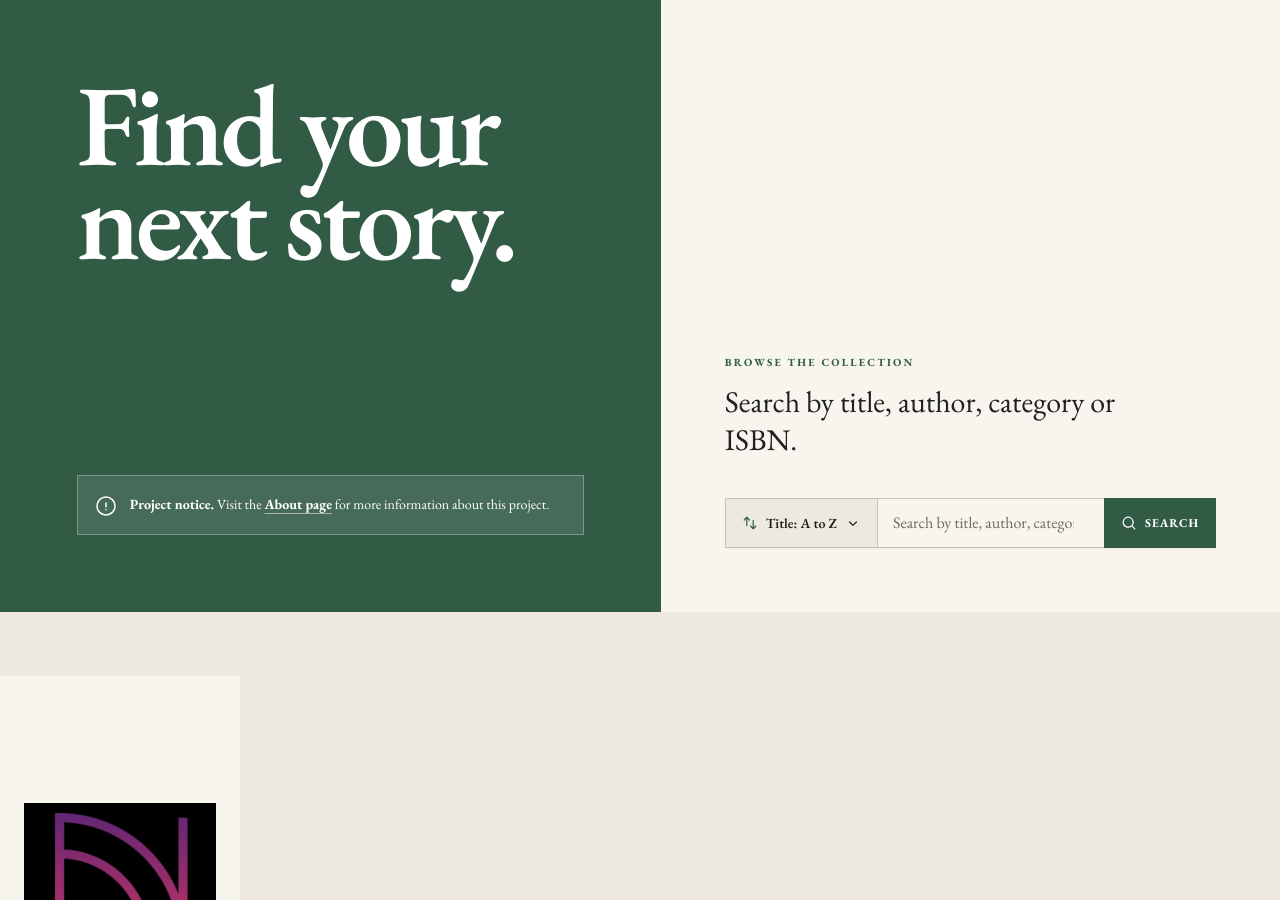
it: CatalogPage infinite loading › reloads the first page when a sort option is selected
This screenshot has width=1280, height=900.
Click the button "Title: A to Z" at (801, 523), box [725, 498, 878, 548]
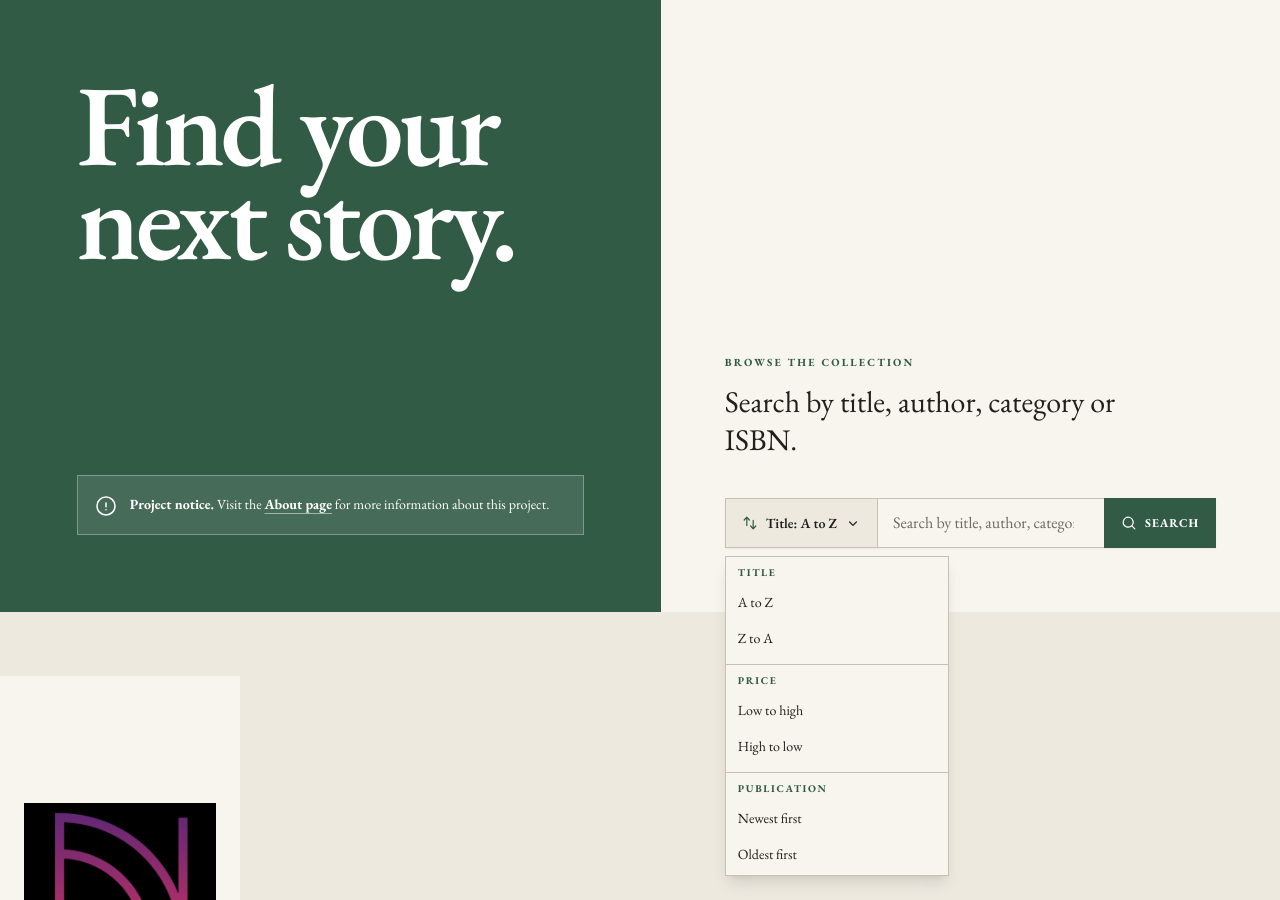
Now the element "Title" is shown, box [726, 557, 948, 665]
Now the element "Price" is shown, box [726, 665, 948, 773]
Now the element "Publication" is shown, box [726, 773, 948, 876]
Click the menu item "High to low" at (837, 746), box [726, 728, 948, 764]
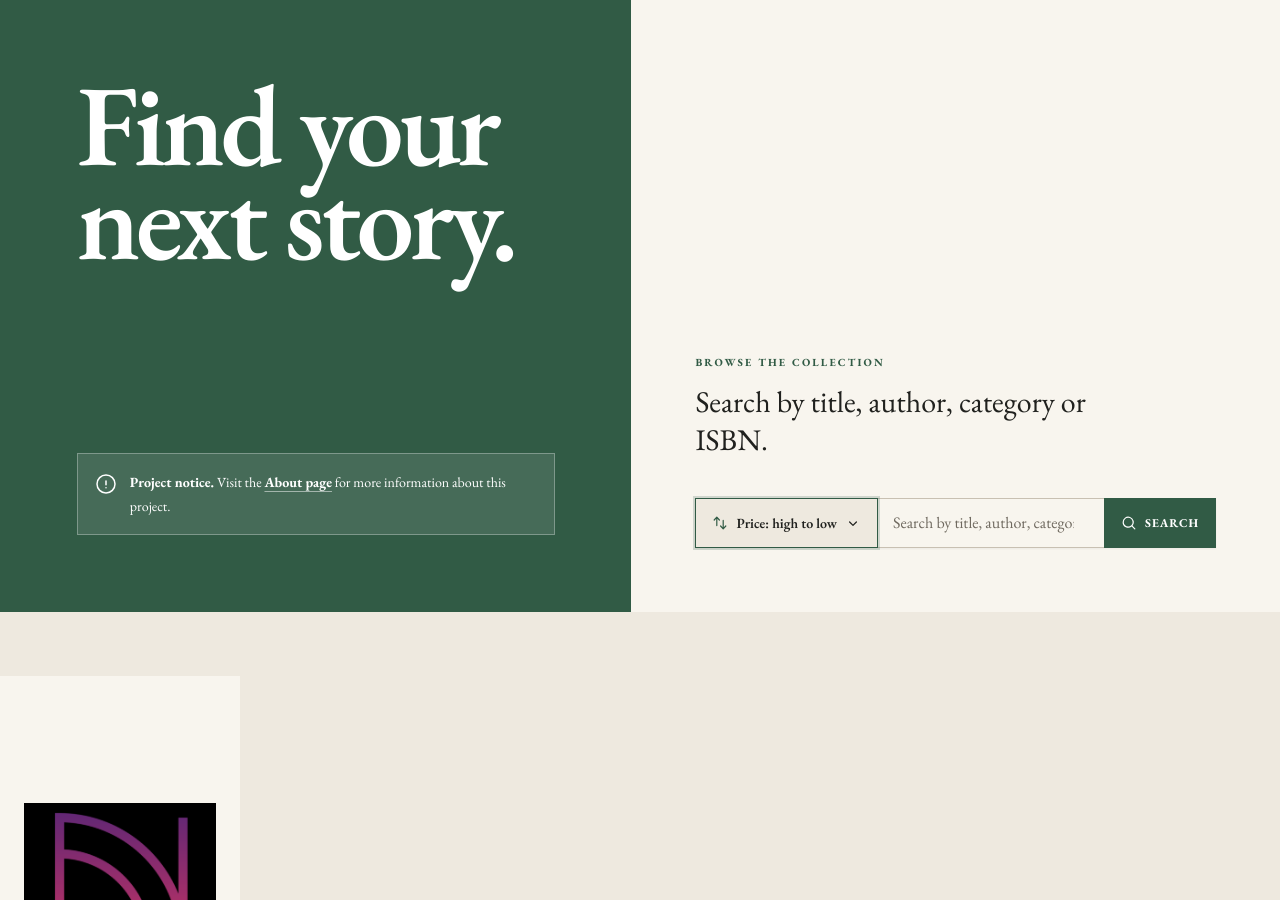
Now the button "Price: high to low" is shown, box [695, 498, 878, 548]
